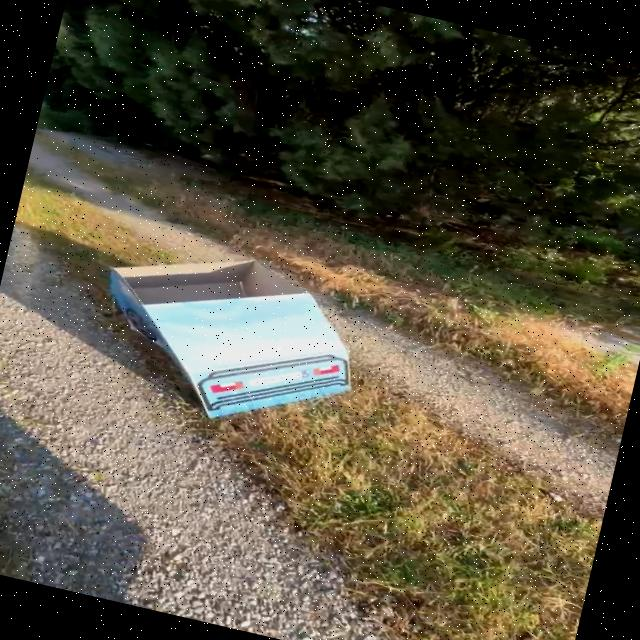blue_car: (46, 202, 426, 476)
